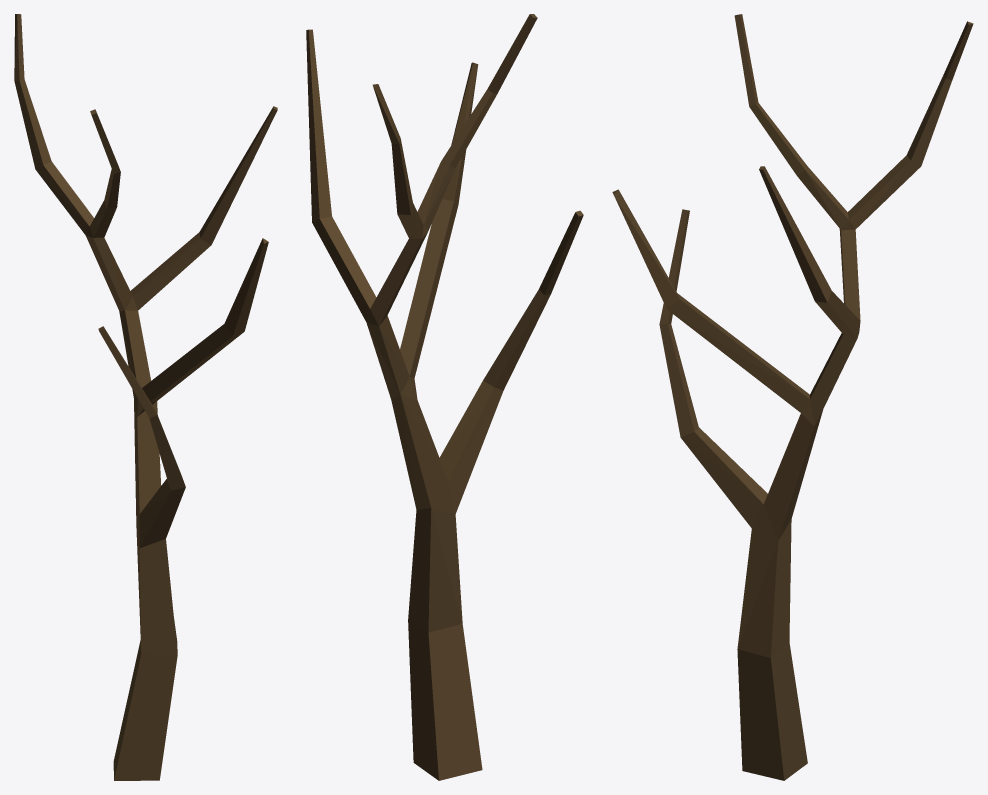
The model's file is Tree_17.fbx.
3 views of the same model, side by side, from view 1: azimuth 30°, elevation 25°; view 2: azimuth 150°, elevation 25°; view 3: azimuth 270°, elevation 25° (orthographic). The views are drawn at different scales.
Parts seen in each view (by area): view 1: Tree_17; view 2: Tree_17; view 3: Tree_17.
Boxes of the visible parts, bbox=[...] form: Tree_17: bbox=[14, 14, 277, 780]; Tree_17: bbox=[306, 14, 583, 780]; Tree_17: bbox=[612, 14, 973, 780].
Bounding box in the file's own units: 88.3 × 272 × 122.
